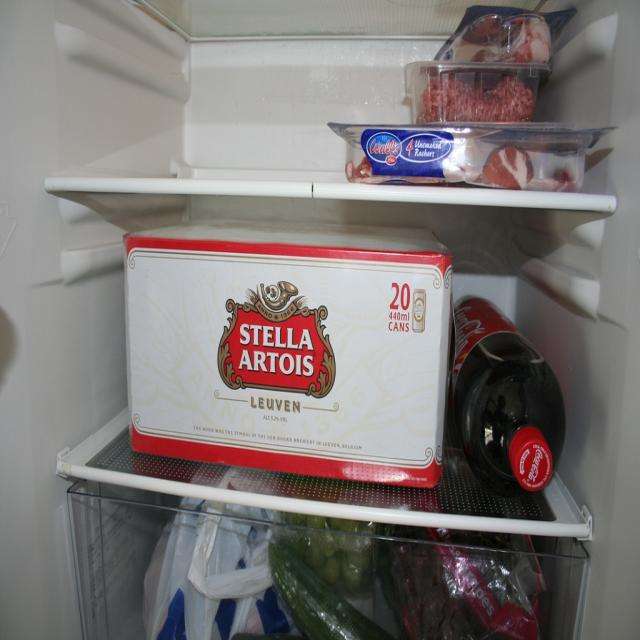stellaartois: (217, 278, 342, 401)
